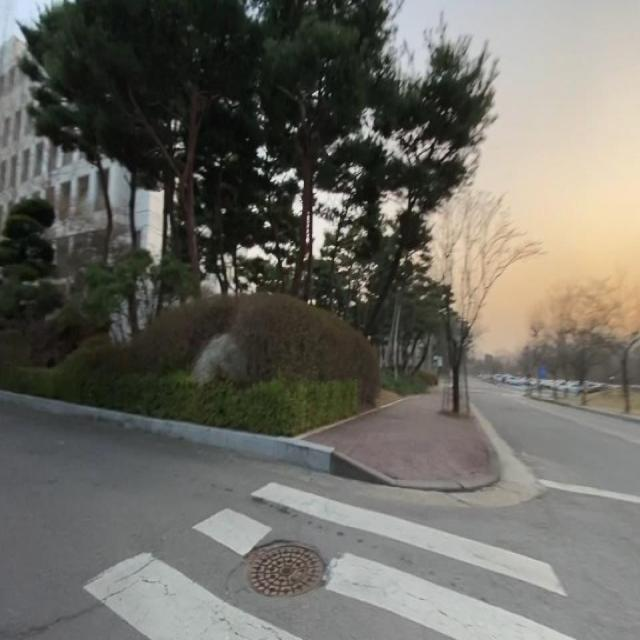sidewalk: (295, 395, 501, 491)
